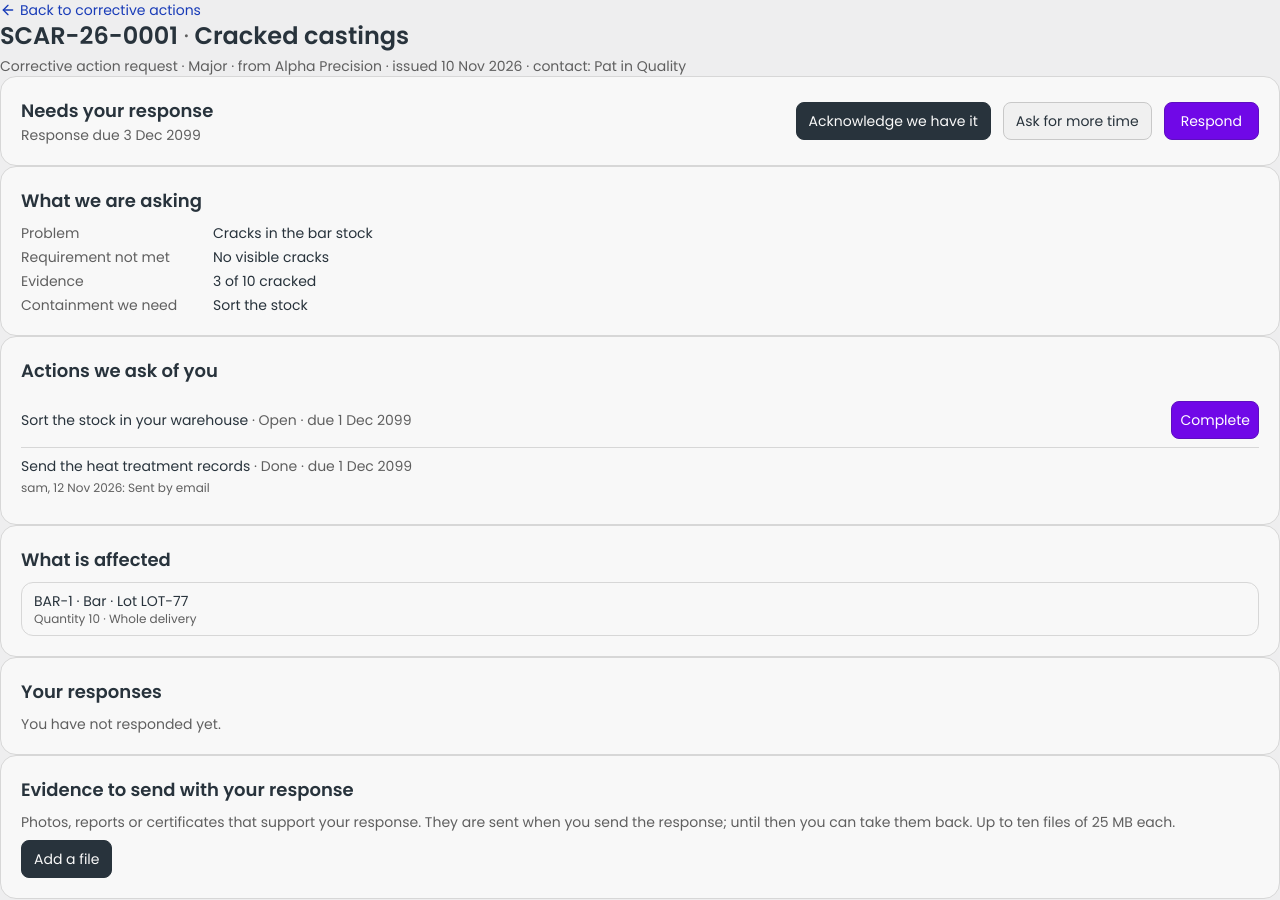
Test: a corrective action request in the portal › lists the actions asked of the supplier and completes one with a note of what was done
Later steps or results of the test are not shown.
Expected: the list named "Actions" shows "Sort the stock in your warehouse", [21,410,248,430]
Expected: the list named "Actions" shows "Sent by email", [128,479,210,496]
Click the button with aria-label "Complete: Sort the stock" at (1215, 420), box [1171,401,1259,439]
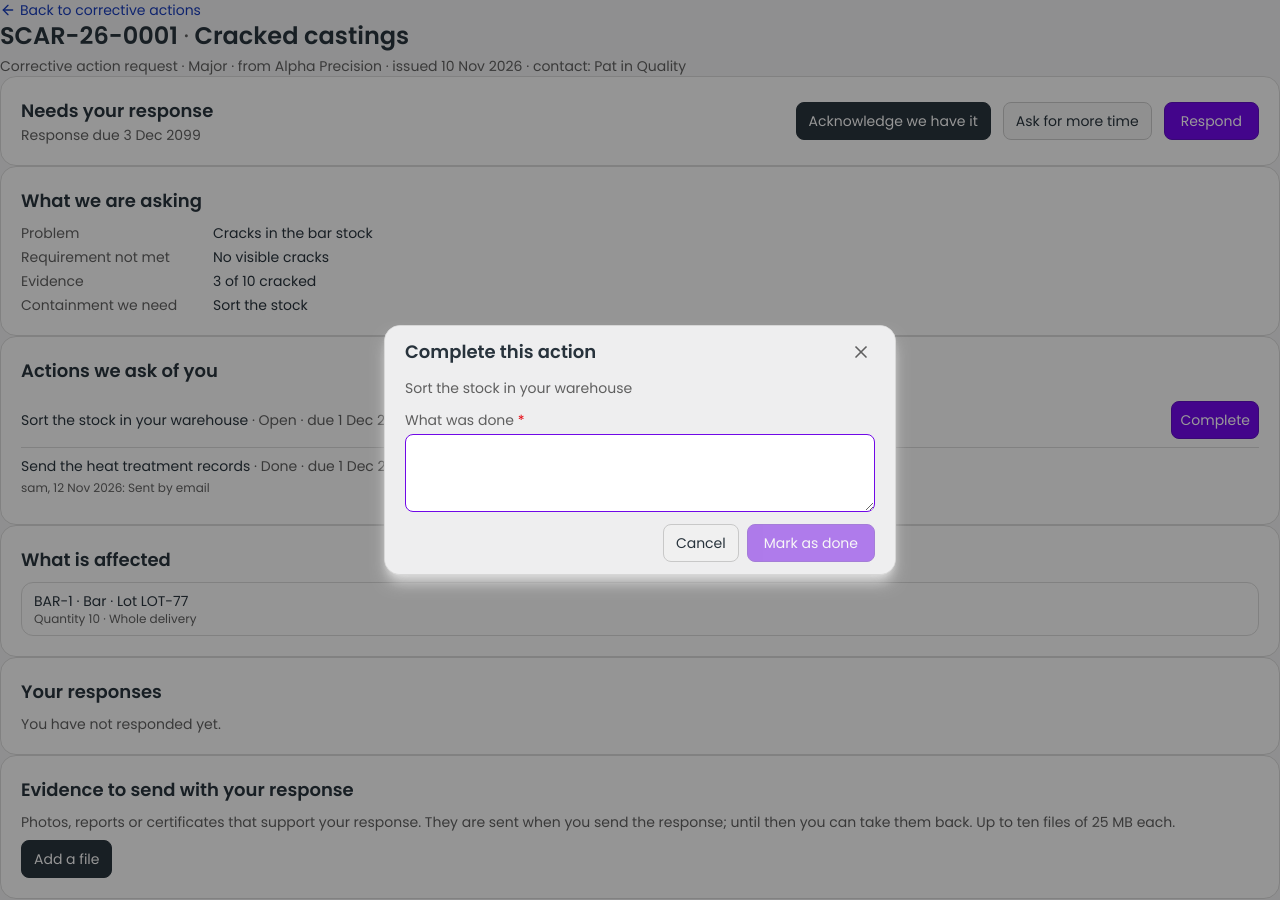
Expected: the button "Mark as done" is disabled, [747,524,875,562]
